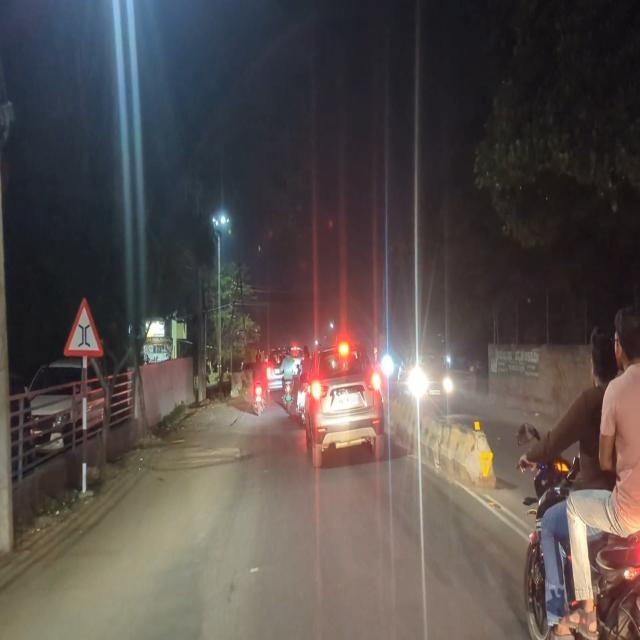bien_nguy_hiem: (63, 297, 105, 358)
